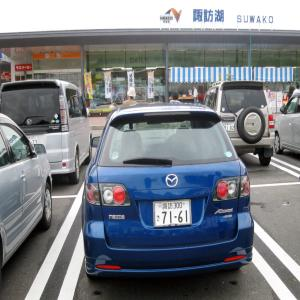Vehicle-registration-plate: (154, 200, 193, 229), (223, 124, 235, 133)
